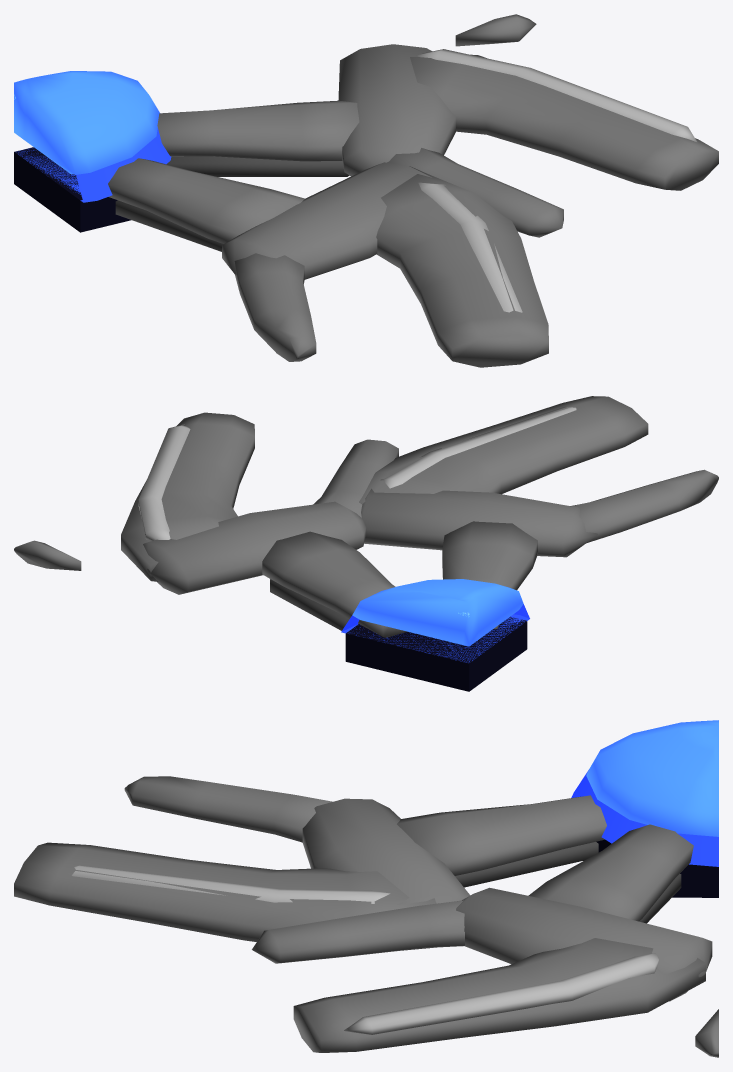
File: newsh-hash-197-f2.glb
The picture shows the model from 3 angles, top to bottom: view 1: azimuth 30°, elevation 25°; view 2: azimuth 150°, elevation 25°; view 3: azimuth 270°, elevation 25°; orthographic projection. The views are drawn at different scales.
Visible parts, largest first — view 1: newsh-hash-197-f2; view 2: newsh-hash-197-f2; view 3: newsh-hash-197-f2.
Boxes of the visible parts, bbox=[...] form: newsh-hash-197-f2: bbox=[14, 14, 718, 367]; newsh-hash-197-f2: bbox=[14, 396, 718, 691]; newsh-hash-197-f2: bbox=[14, 720, 718, 1057].
Size of the model in its own units: 1.69 by 0.3169 by 1.9.
